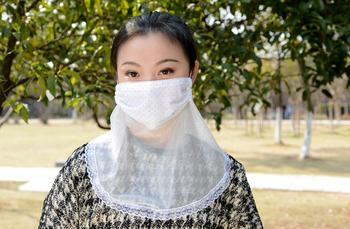face_mask: (117, 33, 192, 129)
